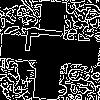L: (25, 25, 73, 56)
